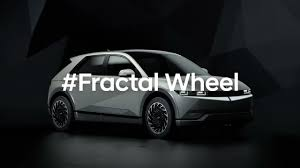Honda Ioniq: (33, 46, 256, 147)
